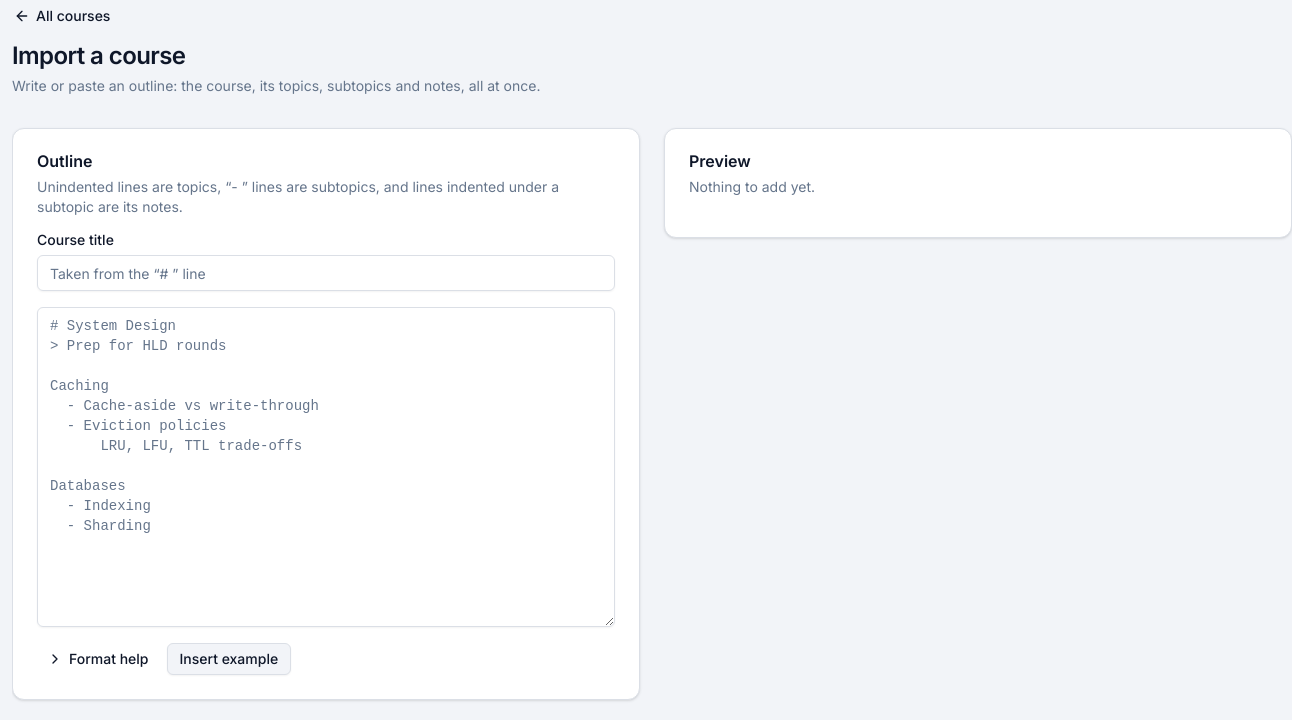
Scenario: import page › offers the example on an empty outline
Click the button "Insert example": (229, 659) [166,643,291,675]
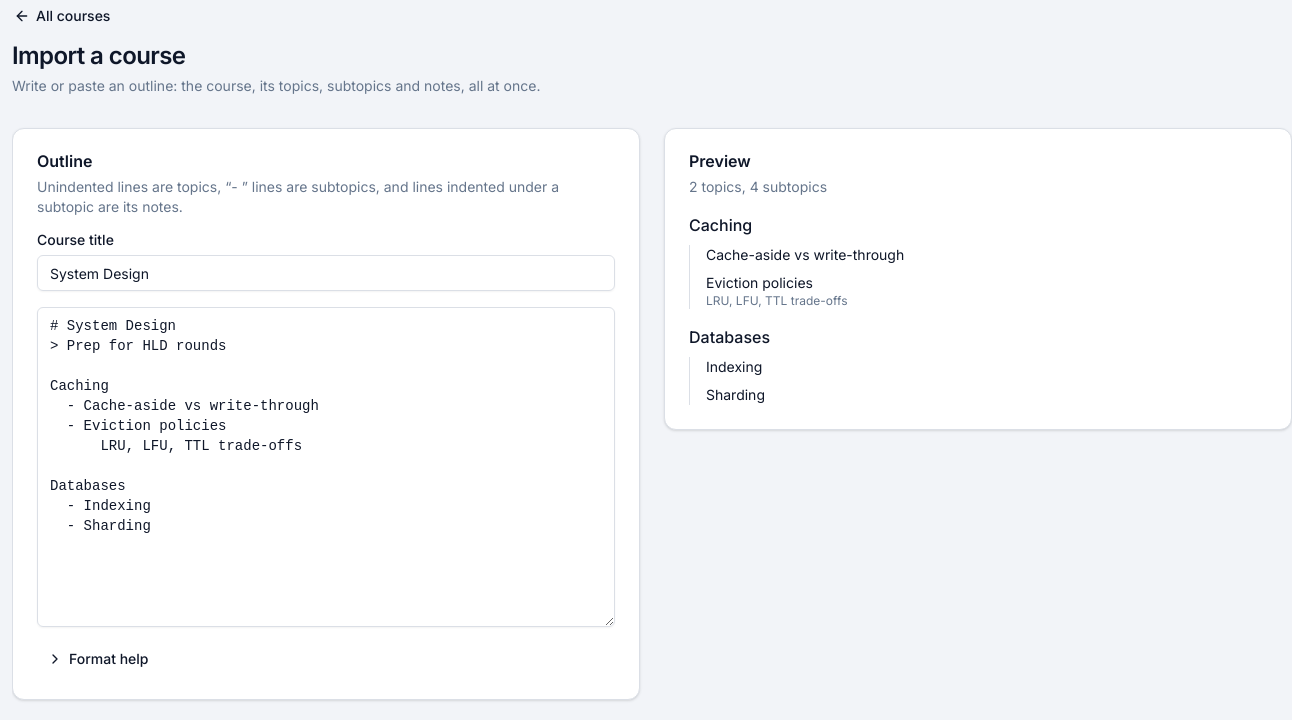
Expected: the text "2 topics, 4 subtopics" is shown, [689,178,827,195]
